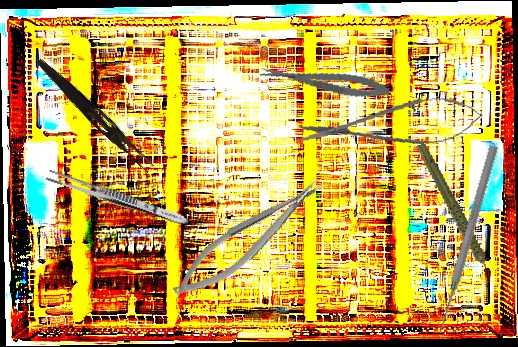Dressing Forceps: (30, 56, 159, 174), (44, 168, 191, 229)
Handpiece: (414, 135, 495, 293)
Micro Scissor: (295, 91, 485, 158), (258, 57, 392, 104)
Needle Holder: (162, 170, 336, 308)
Pusher: (434, 144, 500, 335)
